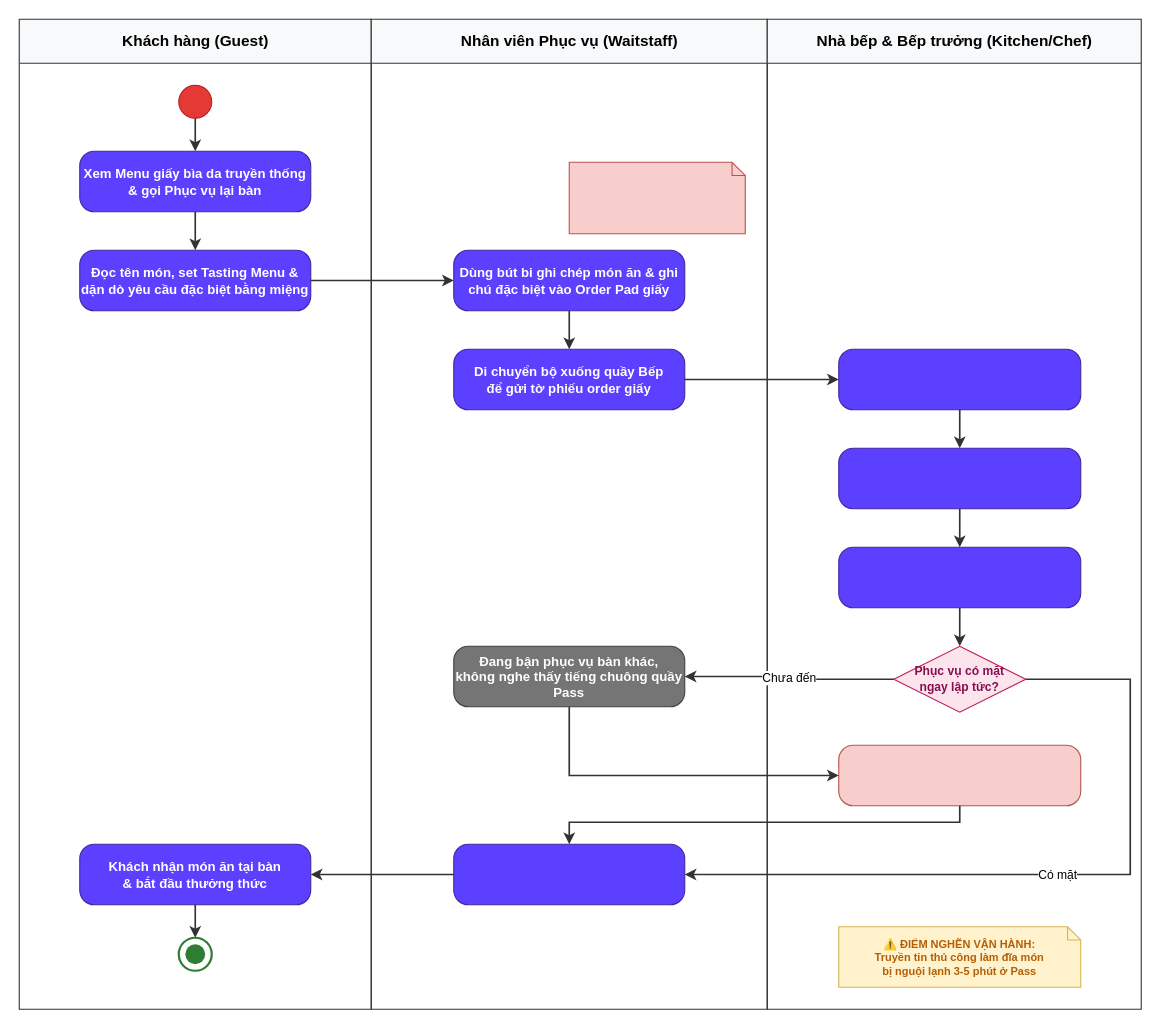
Some shapes in this 1161 by 1029 pixel diagram are drawn without their labels. The shapes that lost their labels are listed below. From the top down, each one's centre as x and y in pixels, then its label:
At point 656,197: "⚠️ NGUY CƠ SAI SÓT: Chữ viết tay vội dễ sót ghi chú đặc biệt của khách".
At point 959,379: "Kẹp phiếu order giấy lên thanh ray, đọc chữ viết tay & điều phối nấu".
At point 959,478: "Đầu bếp chế biến món theo Course (Khai vị, Món chính, Tráng miệng)".
At point 959,577: "Nấu xong, đặt món ra quầy Pass, gọi miệng hoặc bấm chuông cơ học".
At point 959,775: "Món nằm chờ tại quầy Pass (Nguội lạnh & giảm chất lượng)".
At point 569,874: "Đến quầy Pass lấy đĩa món & bưng ra bàn cho thực khách".
